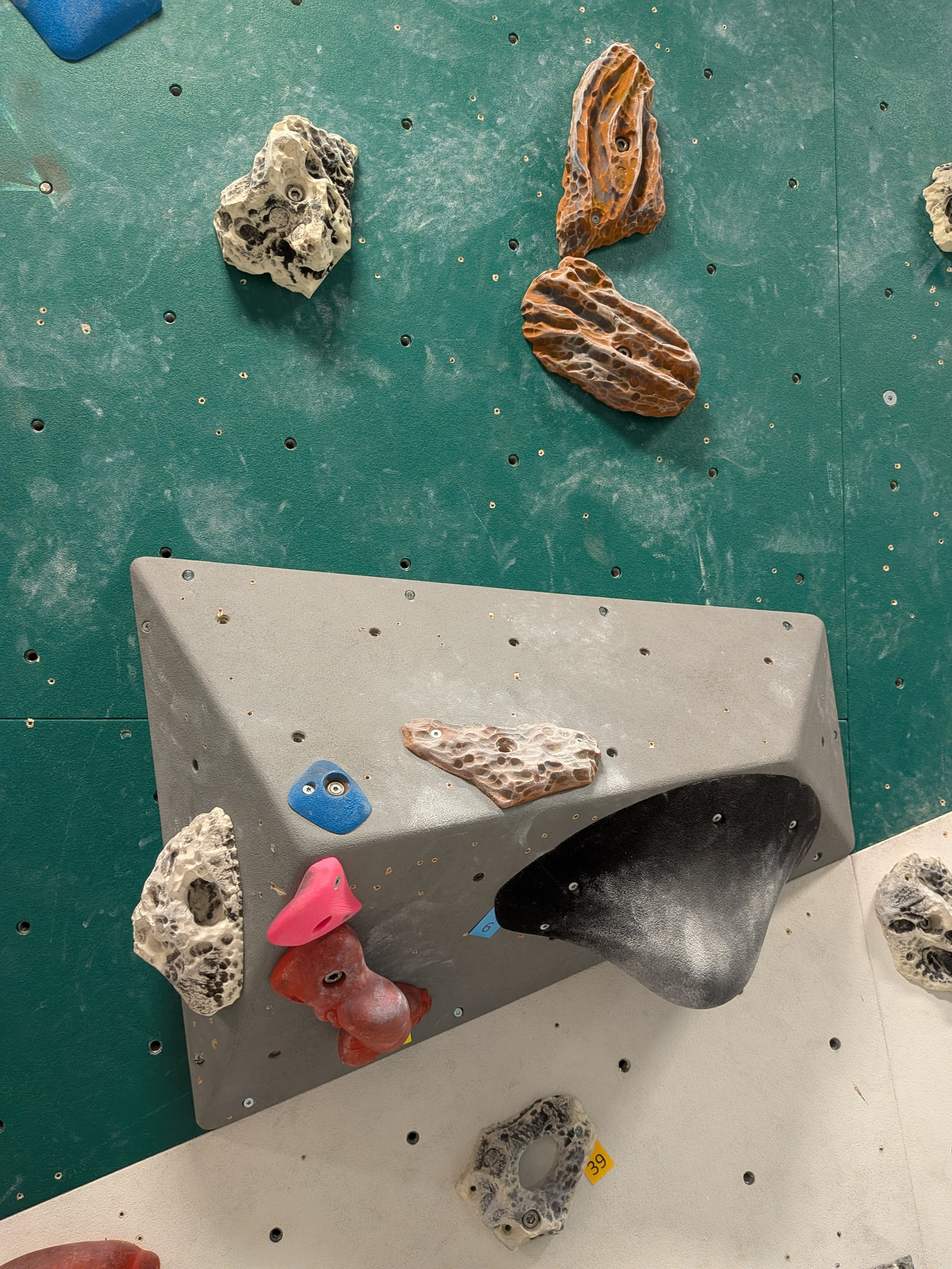hold: (496, 775, 822, 1006), (522, 256, 700, 417), (213, 115, 356, 294), (557, 42, 667, 256), (130, 810, 240, 1017), (269, 928, 429, 1066), (463, 1095, 594, 1247), (402, 720, 601, 806), (878, 855, 952, 997), (9, 0, 158, 61), (266, 858, 360, 946), (287, 760, 370, 834), (0, 1240, 156, 1269), (927, 163, 952, 253)
volume: (130, 562, 860, 1137)
